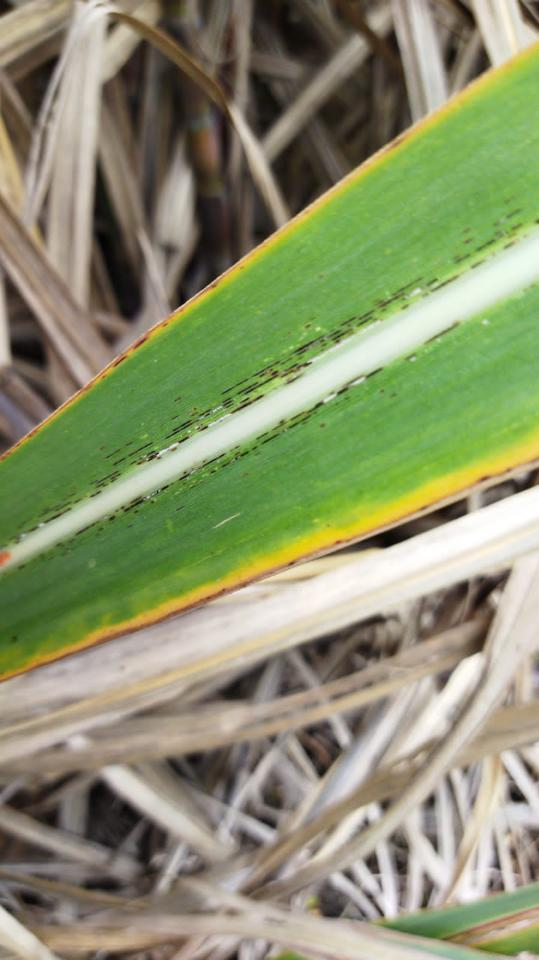RedRot: (0, 552, 11, 568)
Rust: (0, 42, 539, 462), (0, 189, 539, 550), (1, 319, 465, 577)
Yellow: (0, 426, 539, 681)
